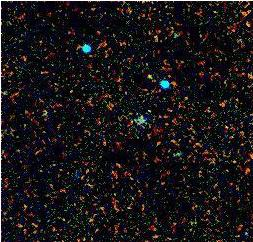star: (131, 61, 161, 91)
